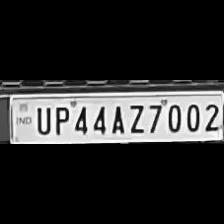0: (164, 101, 182, 133), (182, 100, 200, 132)
2: (201, 99, 221, 133)
4: (70, 102, 88, 134), (89, 102, 107, 134)
7: (144, 100, 162, 134)
A: (107, 102, 125, 134)
P: (50, 102, 70, 136)
U: (33, 103, 51, 135)
Z: (125, 100, 145, 134)
